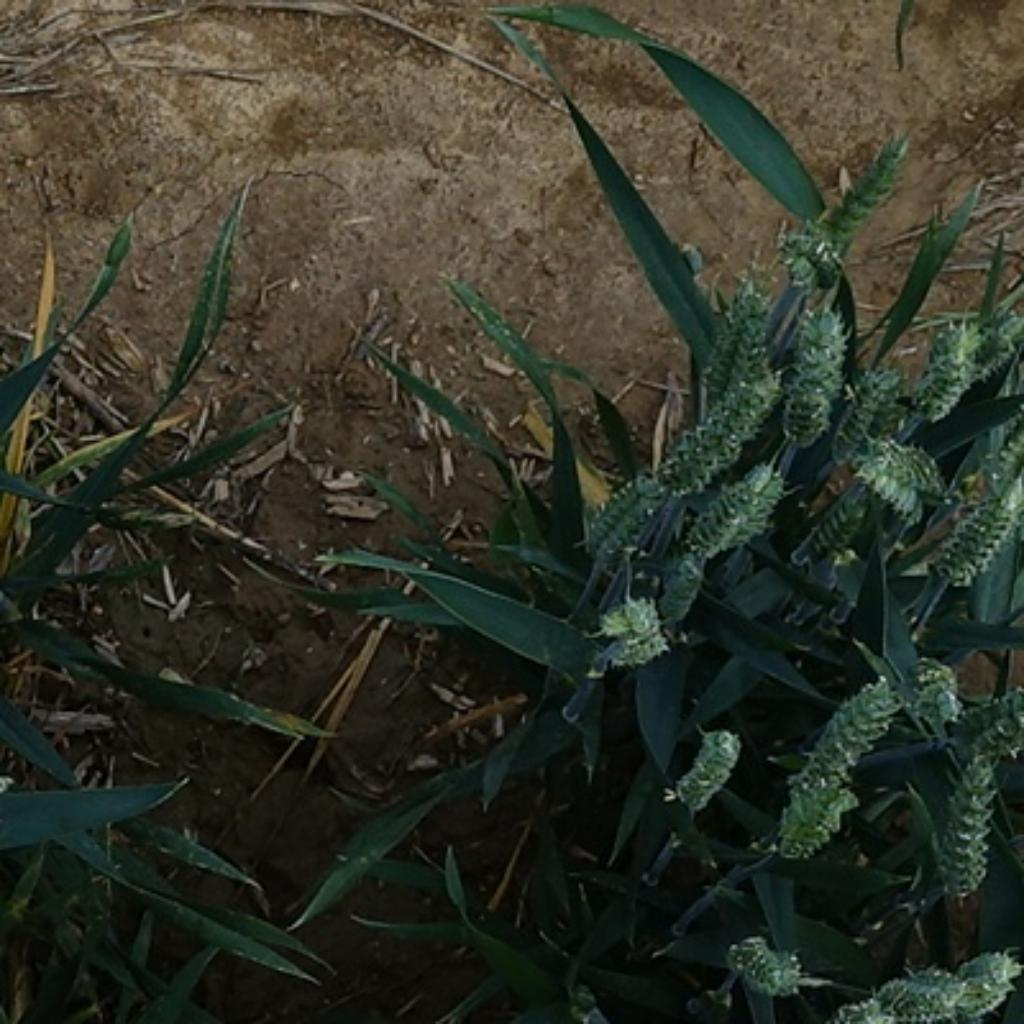0-0: (655, 368, 773, 481), (790, 680, 898, 795), (919, 750, 998, 898), (578, 458, 683, 568), (780, 294, 852, 435), (949, 637, 1024, 768), (683, 460, 785, 555), (931, 476, 1021, 581), (965, 351, 1024, 511), (832, 131, 911, 248), (691, 286, 768, 399), (663, 716, 747, 816), (814, 376, 905, 466), (906, 317, 975, 417), (588, 588, 673, 668), (847, 441, 938, 509), (773, 207, 844, 289), (781, 781, 857, 857), (727, 932, 808, 998), (893, 652, 962, 724), (875, 970, 967, 1024), (803, 478, 861, 552), (963, 305, 1024, 367), (664, 560, 702, 623)
